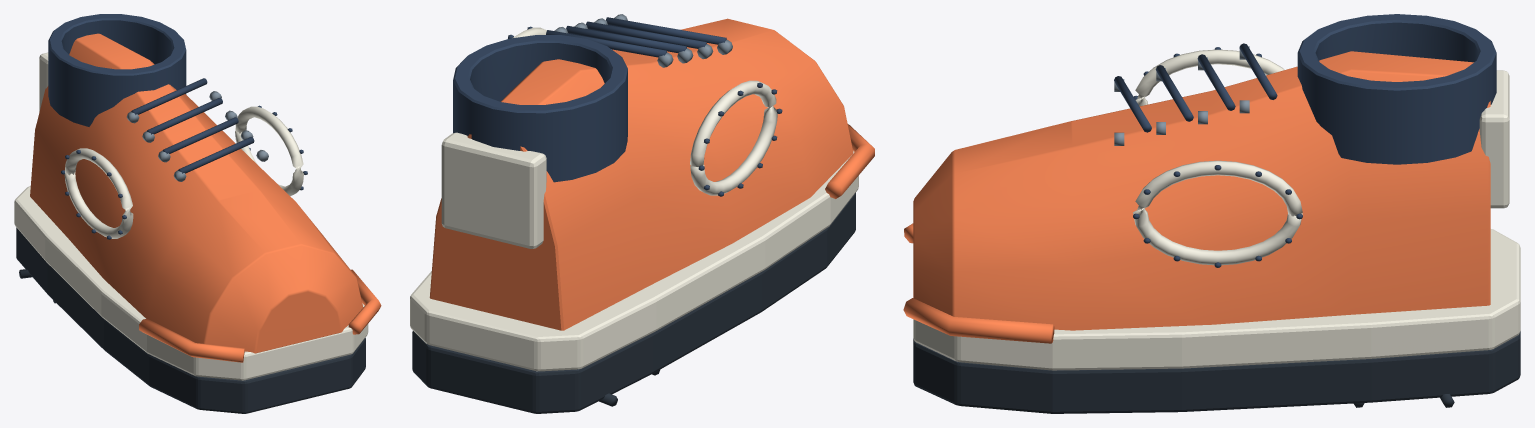
File: ReedlineCirclers.glb
3 renders of one model, left to right at view 1: azimuth 30°, elevation 25°; view 2: azimuth 150°, elevation 25°; view 3: azimuth 270°, elevation 25°, orthographic. The views are drawn at different scales.
Parts seen in each view (by area): view 1: ReedlineCirclers_StaticSurfaces; view 2: ReedlineCirclers_StaticSurfaces; view 3: ReedlineCirclers_StaticSurfaces.
Boxes of the visible parts, left/top/right/bottom form: ReedlineCirclers_StaticSurfaces: left=14, top=14, right=381, bottom=413; ReedlineCirclers_StaticSurfaces: left=410, top=14, right=874, bottom=413; ReedlineCirclers_StaticSurfaces: left=903, top=14, right=1520, bottom=413.
Bounding box in the file's own units: 0.1674 × 0.1696 × 0.3099.
